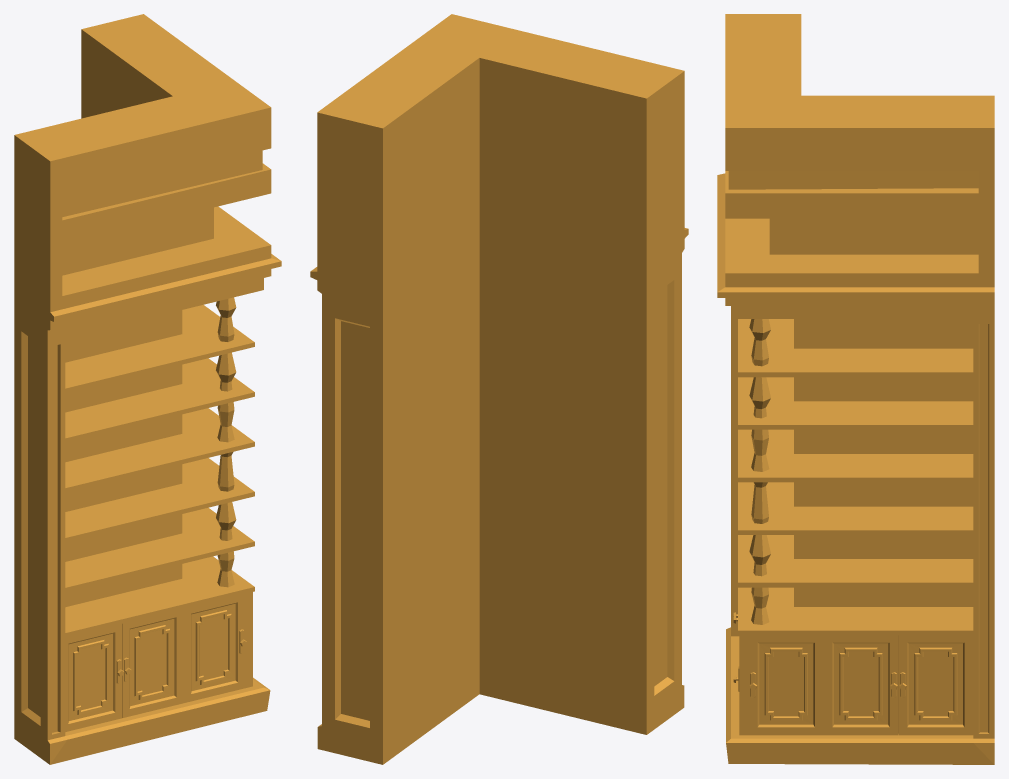
File: SM_Bookcase_Tall_Modular_Cabinet_Corner_Outer.fbx
3 views of the same model, side by side, from view 1: azimuth 30°, elevation 25°; view 2: azimuth 150°, elevation 25°; view 3: azimuth 270°, elevation 25° (orthographic). The views are drawn at different scales.
Parts seen in each view (by area): view 1: library-tall-modular-cabinet-corner-outer-base, library-tall-modular-cabinet-corner-outer-door-m-a, library-tall-modular-cabinet-corner-outer-door-r-a, library-tall-modular-cabinet-corner-outer-door-l-a; view 2: library-tall-modular-cabinet-corner-outer-base; view 3: library-tall-modular-cabinet-corner-outer-base, library-tall-modular-cabinet-corner-outer-door-m-b, library-tall-modular-cabinet-corner-outer-door-r-b, library-tall-modular-cabinet-corner-outer-door-l-b.
Boxes of the visible parts, x1=… form: library-tall-modular-cabinet-corner-outer-base: x1=14, y1=14, x2=281, y2=764; library-tall-modular-cabinet-corner-outer-door-m-a: x1=122, y1=609, x2=183, y2=717; library-tall-modular-cabinet-corner-outer-door-r-a: x1=184, y1=594, x2=246, y2=702; library-tall-modular-cabinet-corner-outer-door-l-a: x1=65, y1=624, x2=123, y2=731; library-tall-modular-cabinet-corner-outer-base: x1=310, y1=14, x2=688, y2=764; library-tall-modular-cabinet-corner-outer-base: x1=717, y1=14, x2=994, y2=764; library-tall-modular-cabinet-corner-outer-door-m-b: x1=823, y1=635, x2=898, y2=735; library-tall-modular-cabinet-corner-outer-door-r-b: x1=898, y1=635, x2=973, y2=735; library-tall-modular-cabinet-corner-outer-door-l-b: x1=749, y1=635, x2=823, y2=735.
Size of the model in its own units: 1.58 by 4 by 1.58.
